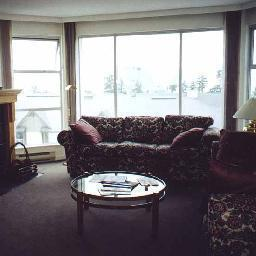Ventana: (79, 33, 229, 116), (10, 32, 63, 146)
